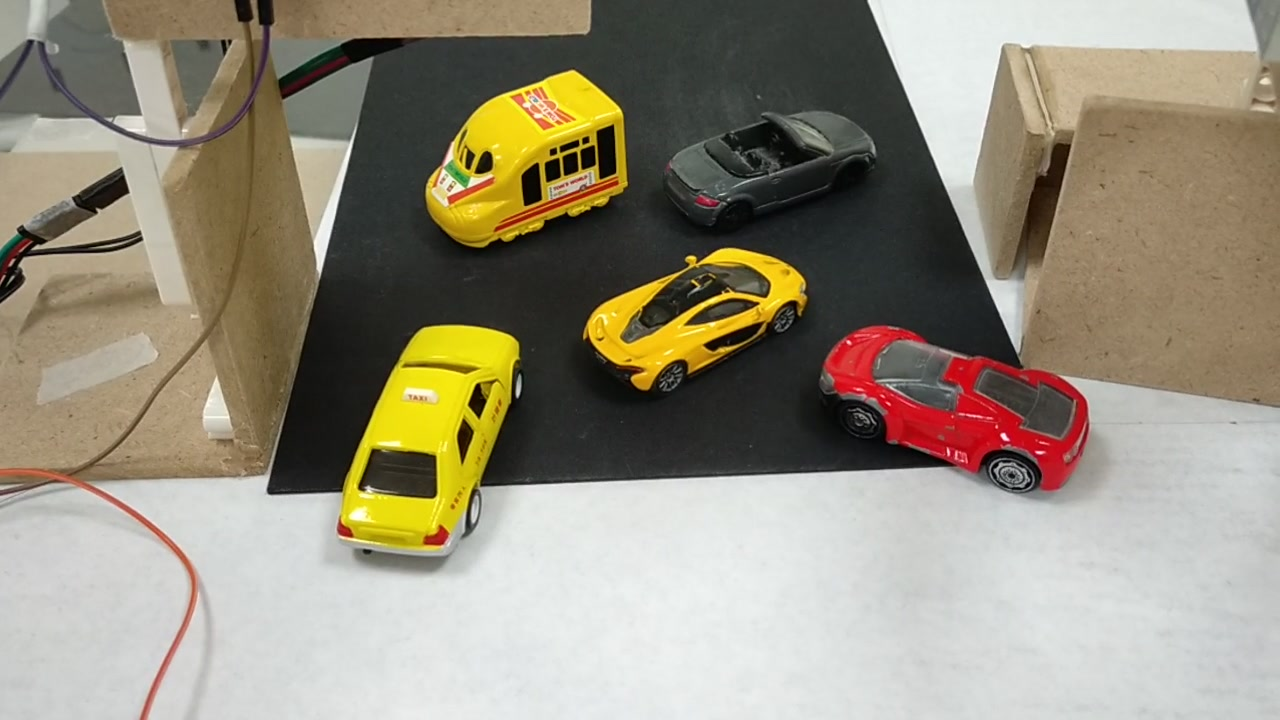car: (817, 320, 1087, 510), (334, 331, 527, 552), (582, 249, 800, 386), (658, 116, 882, 215)
